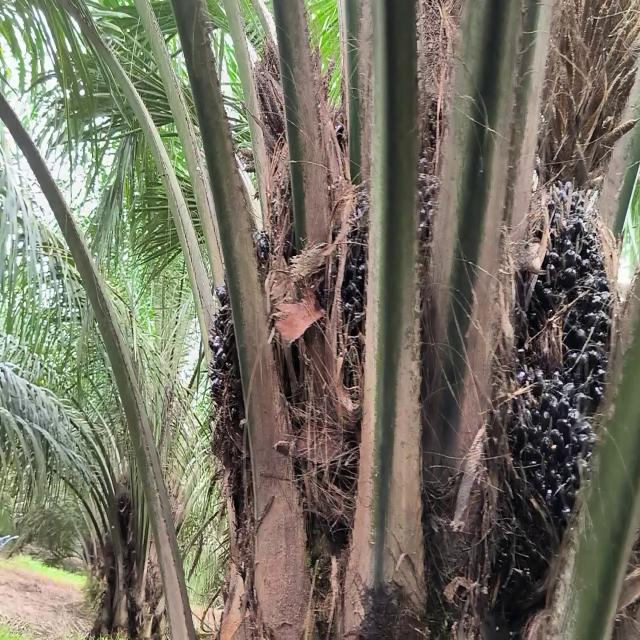palm-oil: (469, 373, 594, 640), (506, 186, 614, 466), (348, 168, 436, 427), (209, 217, 292, 491)
